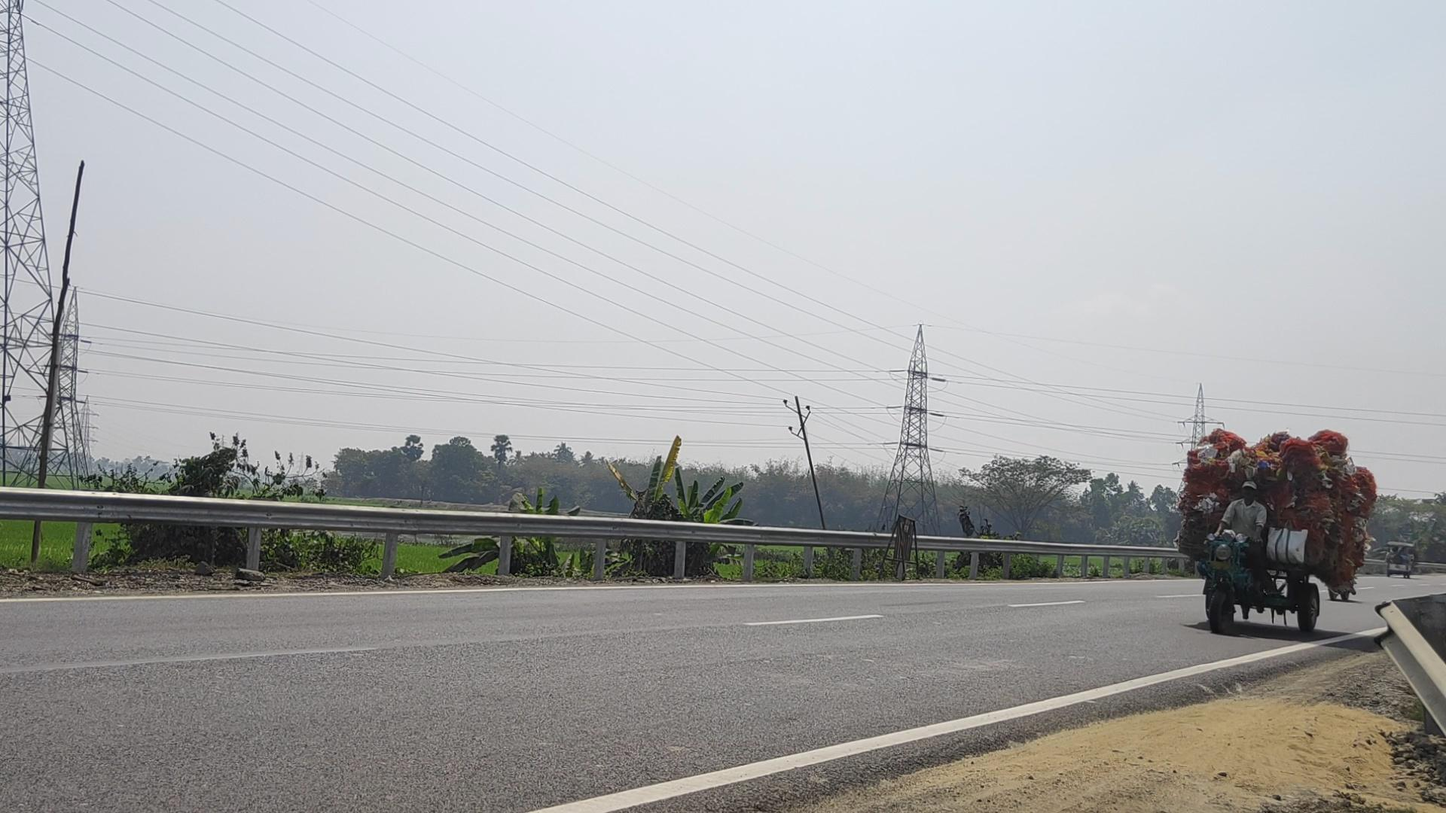Auto: (1384, 540, 1416, 579)
